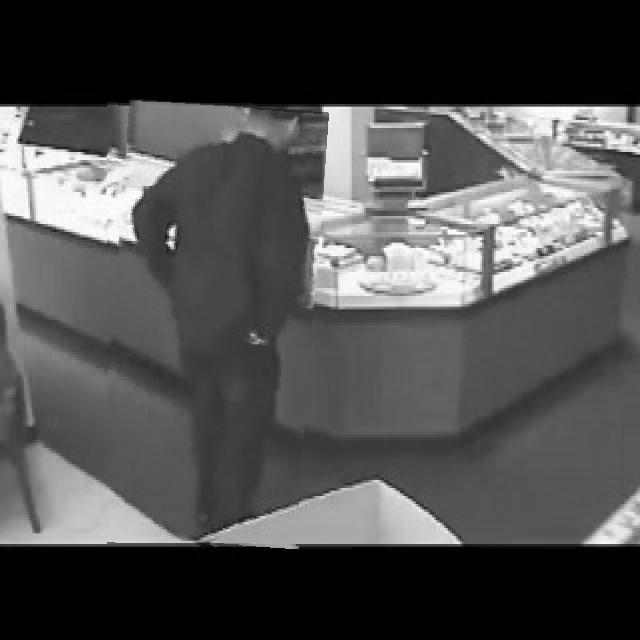Normal: (107, 102, 321, 546)
